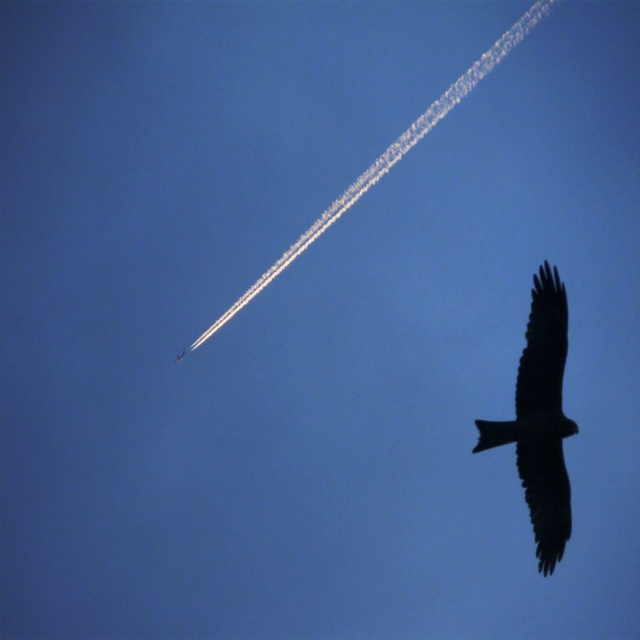Raven: (472, 258, 581, 578)
